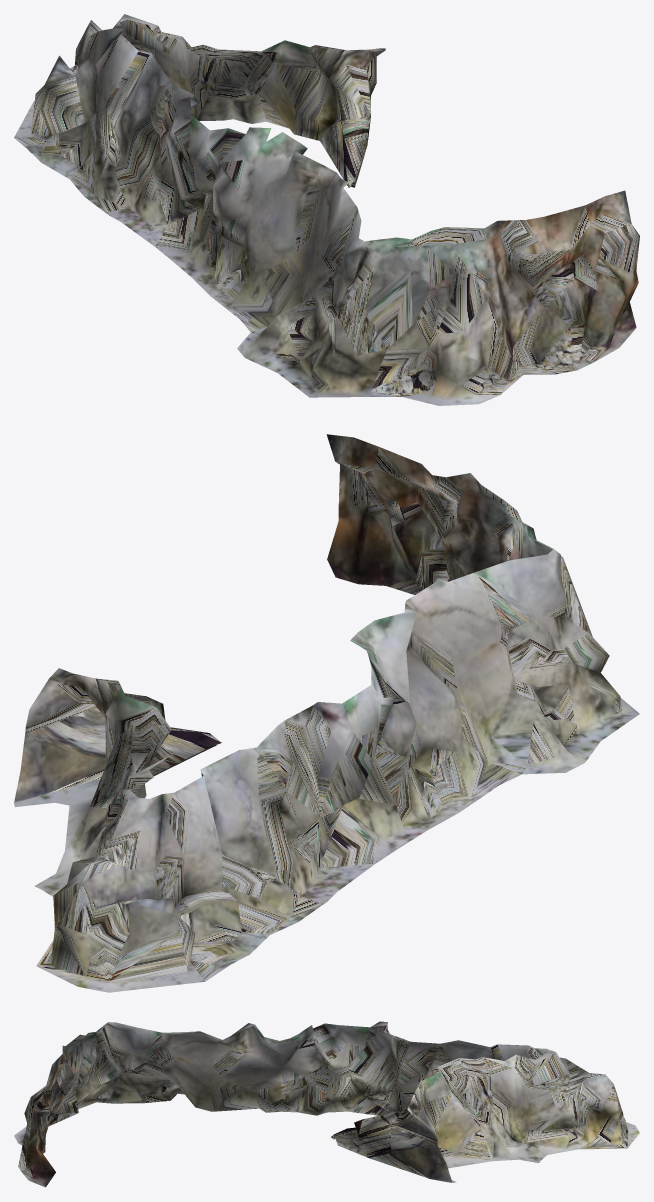
Rendered from shore-ridge.lod0.glb.
3 renders of one model, top to bottom at view 1: azimuth 30°, elevation 25°; view 2: azimuth 150°, elevation 25°; view 3: azimuth 270°, elevation 25°, orthographic. The views are drawn at different scales.
Parts seen in each view (by area): view 1: Object_3; view 2: Object_3; view 3: Object_3.
Boxes of the visible parts, x1,y1,x2,y2 form: Object_3: (14, 14, 639, 405); Object_3: (14, 434, 639, 992); Object_3: (14, 1021, 639, 1187).
Bounding box in the file's own units: 5.81 × 2.79 × 13.94.
1 material, 1 textured.
